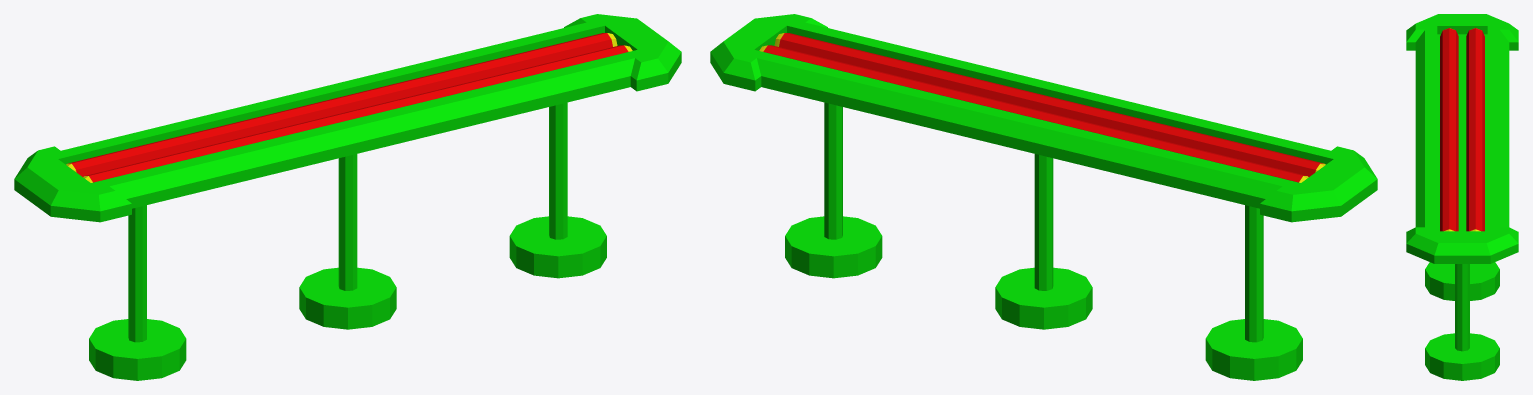
Rendered from LightB_SM (3).fbx.
3 views of the same model, side by side, from view 1: azimuth 30°, elevation 25°; view 2: azimuth 150°, elevation 25°; view 3: azimuth 270°, elevation 25° (orthographic). The views are drawn at different scales.
Parts seen in each view (by area): view 1: pCylinder4; view 2: pCylinder4; view 3: pCylinder4.
Part boxes in pixels (x1=…): pCylinder4: x1=14, y1=14, x2=681, y2=380; pCylinder4: x1=710, y1=14, x2=1377, y2=380; pCylinder4: x1=1406, y1=14, x2=1518, y2=380.
Size of the model in its own units: 15 by 4.65 by 3.
